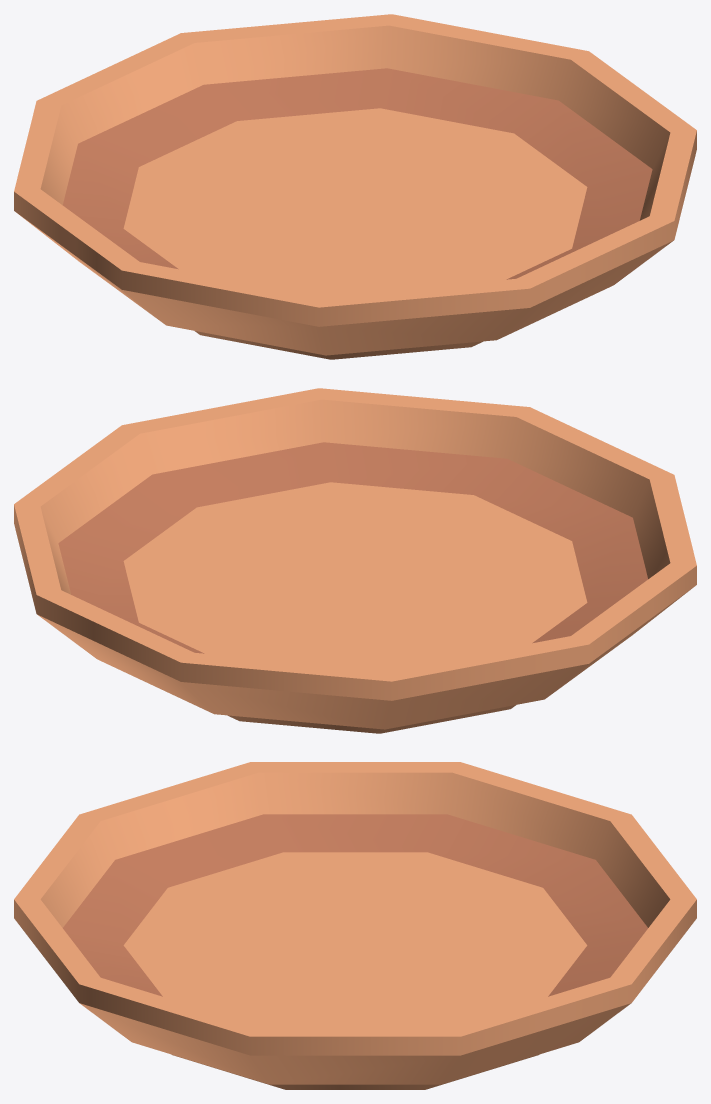
File: tajine.obj
The picture shows the model from 3 angles, top to bottom: view 1: azimuth 30°, elevation 25°; view 2: azimuth 150°, elevation 25°; view 3: azimuth 270°, elevation 25°; orthographic projection. The views are drawn at different scales.
Parts seen in each view (by area): view 1: tajine; view 2: tajine; view 3: tajine.
Boxes of the visible parts, box(x1,y1,x2,y2) form: tajine: box(14, 14, 696, 359); tajine: box(14, 388, 696, 733); tajine: box(14, 762, 696, 1089).
Bounding box in the file's own units: 0.8191 × 0.138 × 0.8613.
